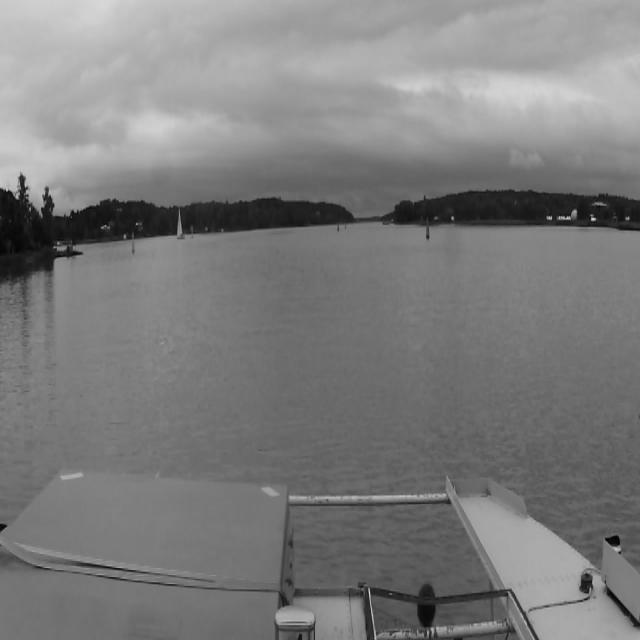buoy: (426, 219, 430, 238), (336, 217, 340, 235), (132, 234, 134, 252)
ship: (175, 208, 185, 239)
